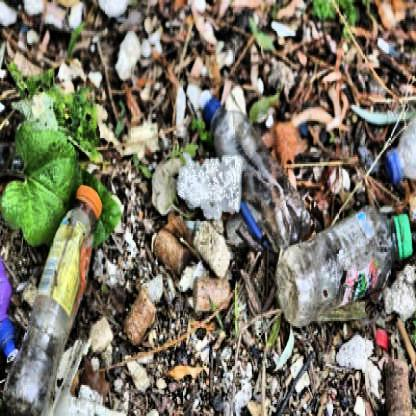Plastic wastes: (5, 183, 103, 414), (201, 86, 313, 250), (278, 207, 413, 330)
